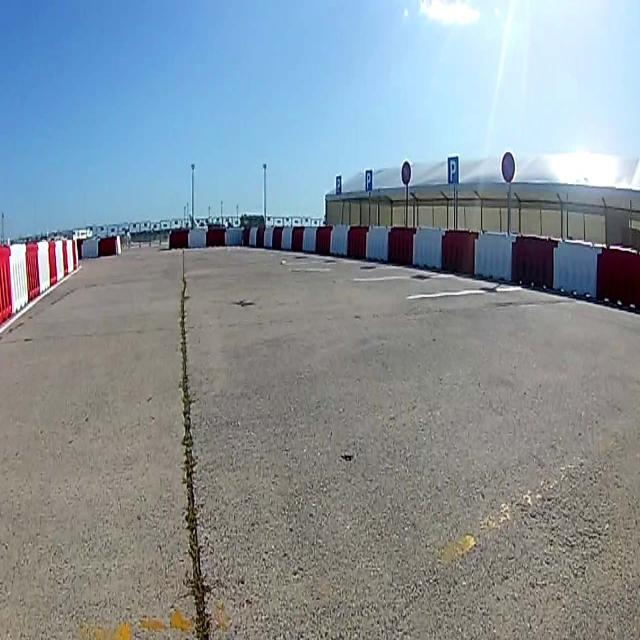park: (448, 156, 458, 184), (335, 174, 342, 196), (366, 171, 372, 192)
parkyasak: (501, 151, 515, 184), (401, 160, 411, 184)
